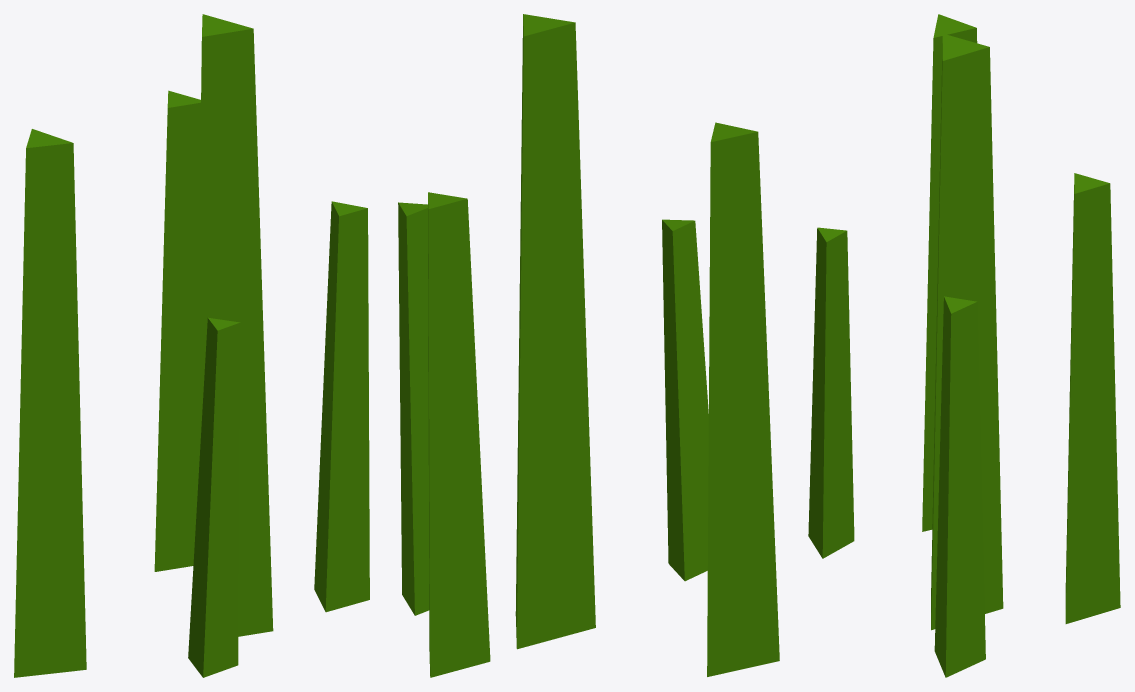
The model's file is Flower_Harvested.fbx.
The picture shows the model from 3 angles, left to right: view 1: azimuth 30°, elevation 25°; view 2: azimuth 150°, elevation 25°; view 3: azimuth 270°, elevation 25°; orthographic projection. The views are drawn at different scales.
Parts seen in each view (by area): view 1: Flower_Harvested; view 2: Flower_Harvested; view 3: Flower_Harvested.
Boxes of the visible parts, x1,y1,x2,y2 form: Flower_Harvested: [14, 14, 369, 677]; Flower_Harvested: [398, 14, 779, 677]; Flower_Harvested: [808, 14, 1120, 677].
Size of the model in its own units: 17.44 by 27.61 by 13.77.
